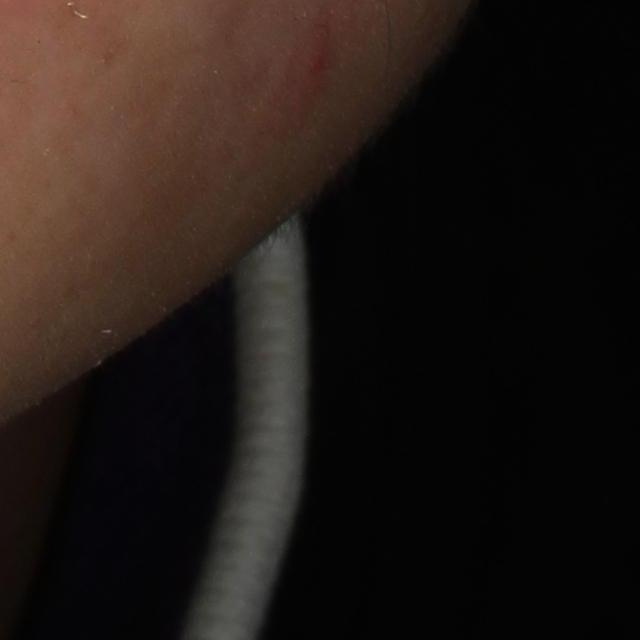papule: (300, 29, 332, 90)
